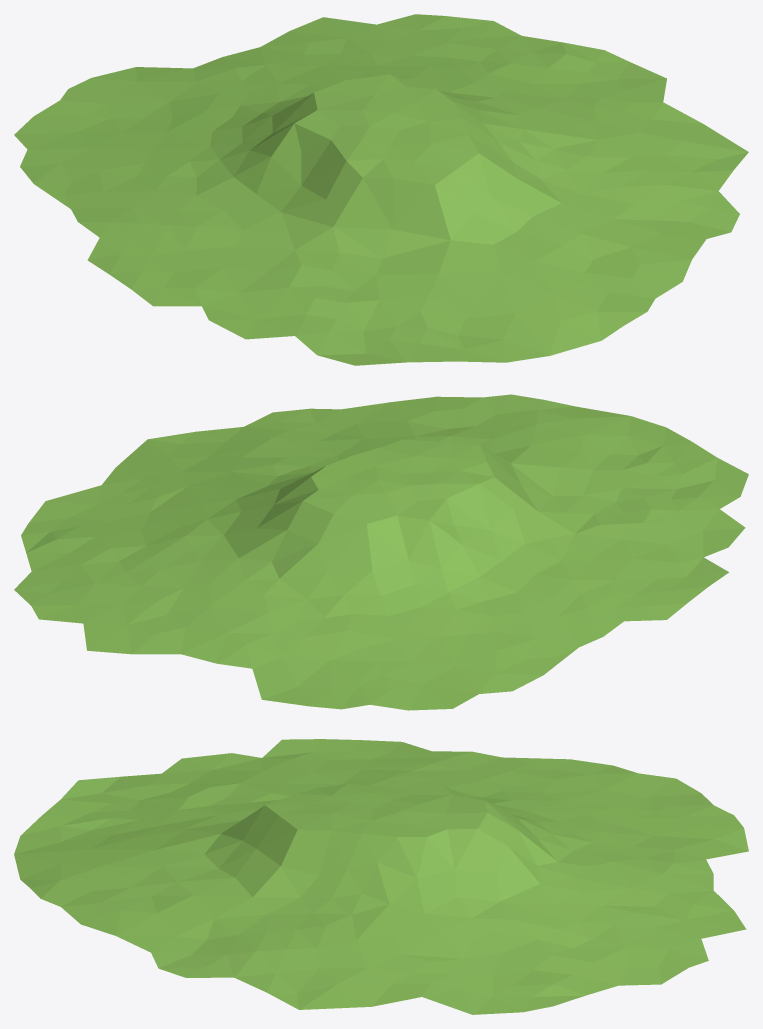
File: MT_Mountain_L_b_18_LOD.fbx
The picture shows the model from 3 angles, top to bottom: view 1: azimuth 30°, elevation 25°; view 2: azimuth 150°, elevation 25°; view 3: azimuth 270°, elevation 25°; orthographic projection. The views are drawn at different scales.
Visible parts, largest first — view 1: MT_Mountain_L_b_18_LOD0; view 2: MT_Mountain_L_b_18_LOD0; view 3: MT_Mountain_L_b_18_LOD0.
Part boxes in pixels (box(x1,y1,x2,y2)): MT_Mountain_L_b_18_LOD0: box(14, 14, 748, 365); MT_Mountain_L_b_18_LOD0: box(14, 394, 748, 710); MT_Mountain_L_b_18_LOD0: box(14, 739, 748, 1014).
Size of what is drawn, in the model's own units: 5068 by 600 by 5708.
